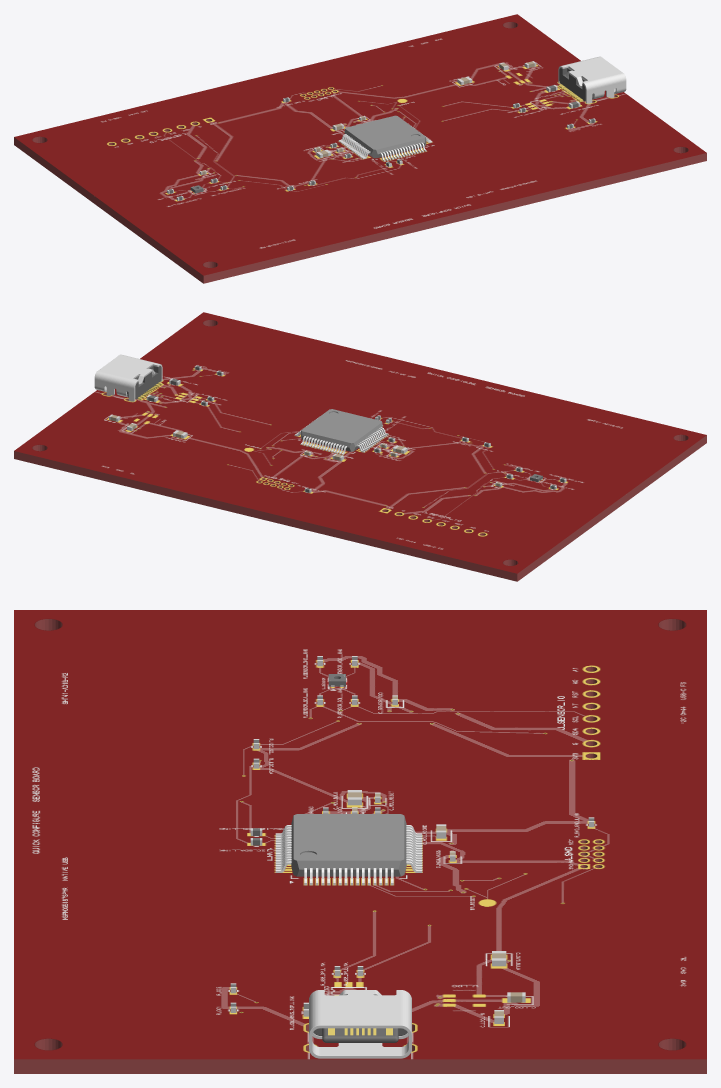
3 views of the same model, one above another, from view 1: azimuth 30°, elevation 25°; view 2: azimuth 150°, elevation 25°; view 3: azimuth 270°, elevation 25° (orthographic). The views are drawn at different scales.
Parts seen in each view (by area): view 1: Box0, U_MAIN, J_USB; view 2: Box0, U_MAIN, J_USB; view 3: Box0, U_MAIN, J_USB.
Part boxes in pixels (left/top/right/bottom): Box0: left=14, top=14, right=706, bottom=283; U_MAIN: left=338, top=115, right=432, bottom=161; J_USB: left=558, top=56, right=626, bottom=103; Box0: left=14, top=312, right=706, bottom=581; U_MAIN: left=294, top=409, right=388, bottom=454; J_USB: left=94, top=354, right=162, bottom=401; Box0: left=14, top=610, right=706, bottom=1073; U_MAIN: left=275, top=814, right=422, bottom=885; J_USB: left=309, top=990, right=411, bottom=1058.
Size of the model in its own units: 92.04 by 4.65 by 60.
16 materials, 2 textured.
